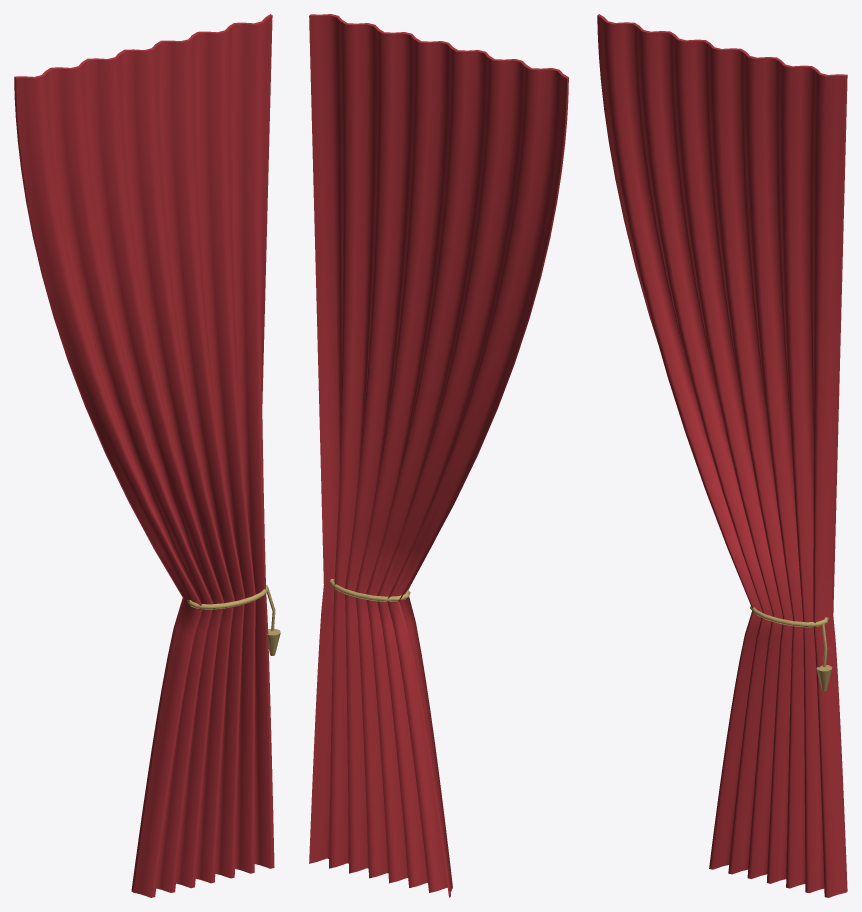
The model's file is curtain_drape.glb.
3 renders of one model, left to right at view 1: azimuth 30°, elevation 25°; view 2: azimuth 150°, elevation 25°; view 3: azimuth 330°, elevation 25°, orthographic. The views are drawn at different scales.
Visible parts, largest first — view 1: velvet__curtain_drape__solid; view 2: velvet__curtain_drape__solid; view 3: velvet__curtain_drape__solid.
Boxes of the visible parts, <box> form: velvet__curtain_drape__solid: <box>14,14,274,897</box>; velvet__curtain_drape__solid: <box>309,14,568,897</box>; velvet__curtain_drape__solid: <box>597,14,847,897</box>.
Size of the model in its own units: 3.5 by 11 by 0.59.
